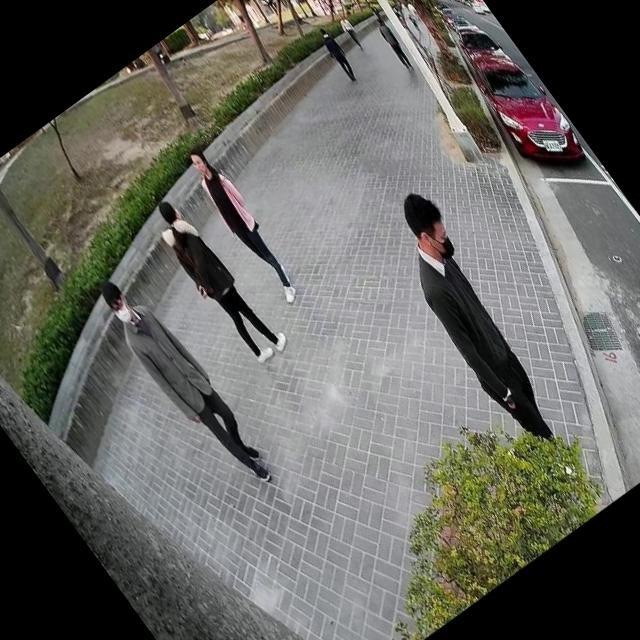person: (358, 178, 588, 454), (81, 256, 283, 504), (135, 180, 294, 374), (174, 138, 312, 310), (308, 19, 366, 87), (366, 7, 420, 74), (331, 8, 368, 52)
